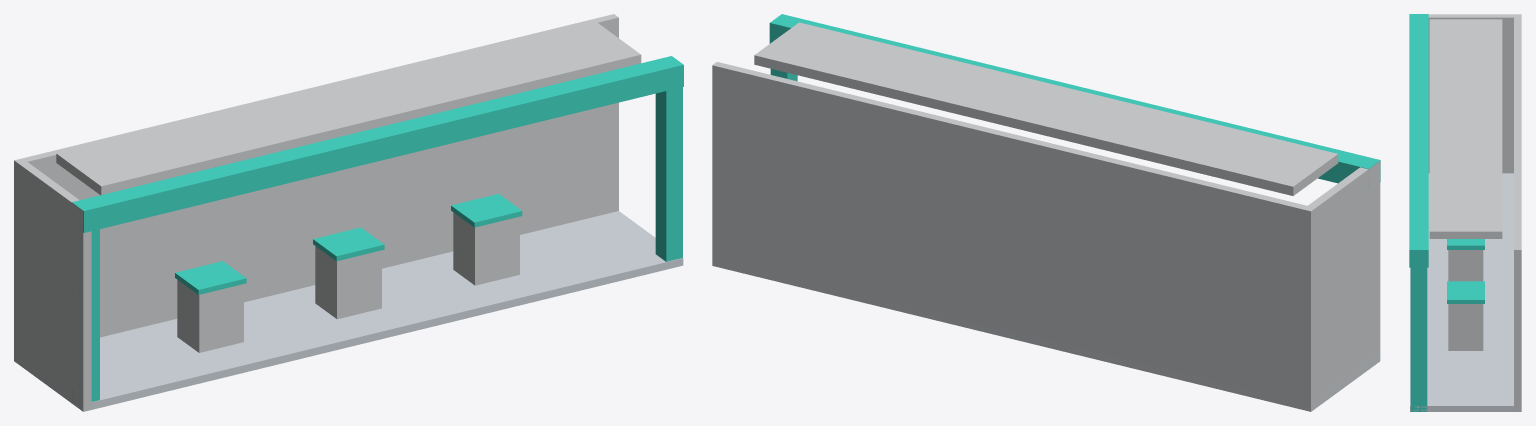
3 renders of one model, left to right at view 1: azimuth 30°, elevation 25°; view 2: azimuth 150°, elevation 25°; view 3: azimuth 270°, elevation 25°, orthographic. The views are drawn at different scales.
Parts seen in each view (by area): view 1: Exhibition Booth Concept; view 2: Exhibition Booth Concept; view 3: Exhibition Booth Concept.
Boxes of the visible parts, bbox=[...] form: Exhibition Booth Concept: bbox=[14, 14, 683, 411]; Exhibition Booth Concept: bbox=[712, 14, 1380, 411]; Exhibition Booth Concept: bbox=[1409, 14, 1521, 411].
Size of the model in its own units: 10 by 3.34 by 2.01.
